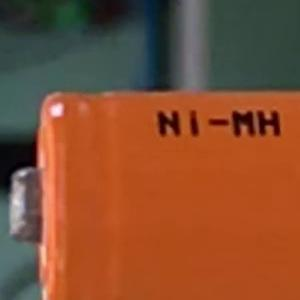keyword: (147, 101, 290, 146)
